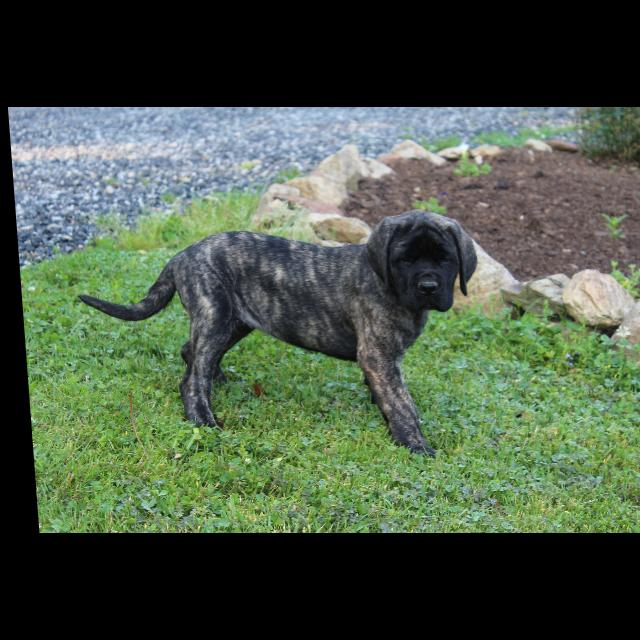other_dog_breed: (70, 210, 487, 460)
